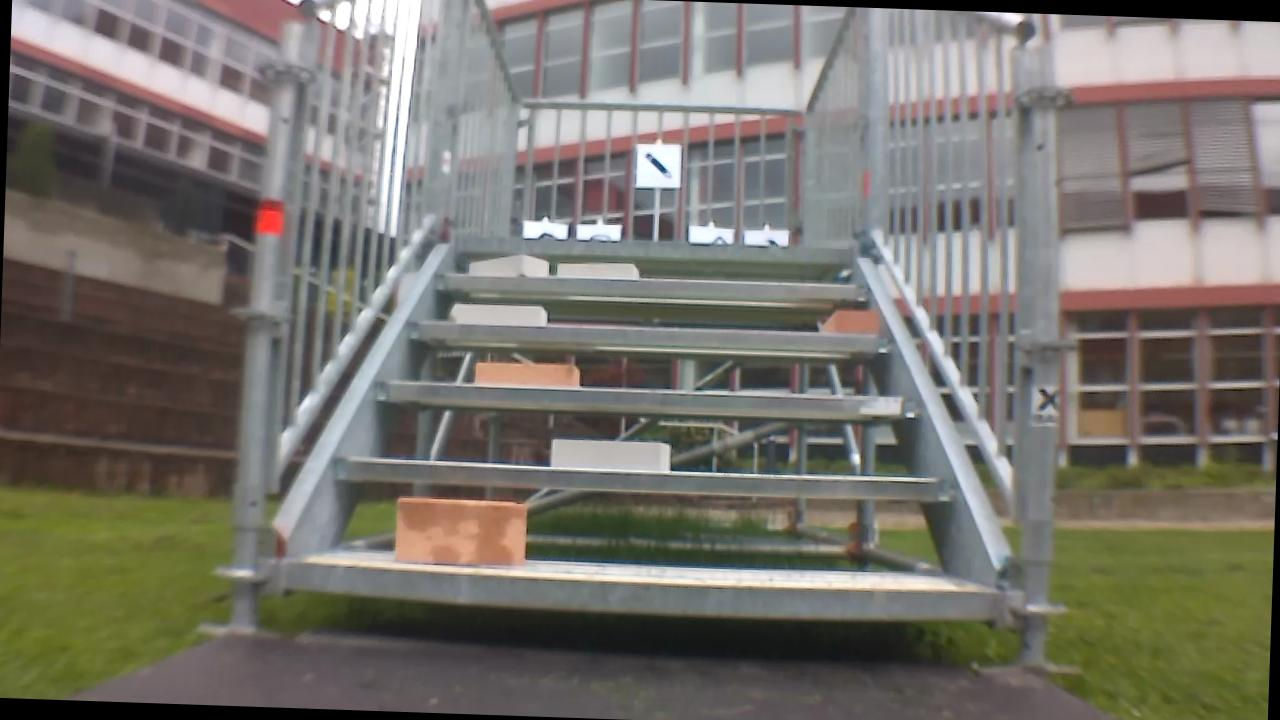brick: (388, 497, 530, 567), (550, 435, 678, 473), (470, 359, 578, 389), (445, 300, 549, 330), (466, 250, 547, 276), (551, 259, 639, 279), (820, 310, 876, 334)
edge: (280, 563, 1006, 615), (326, 460, 952, 502), (373, 378, 918, 418), (401, 318, 891, 354), (425, 268, 870, 304), (453, 235, 853, 265)
pencil: (641, 151, 673, 180)
steps: (267, 226, 1023, 620)
